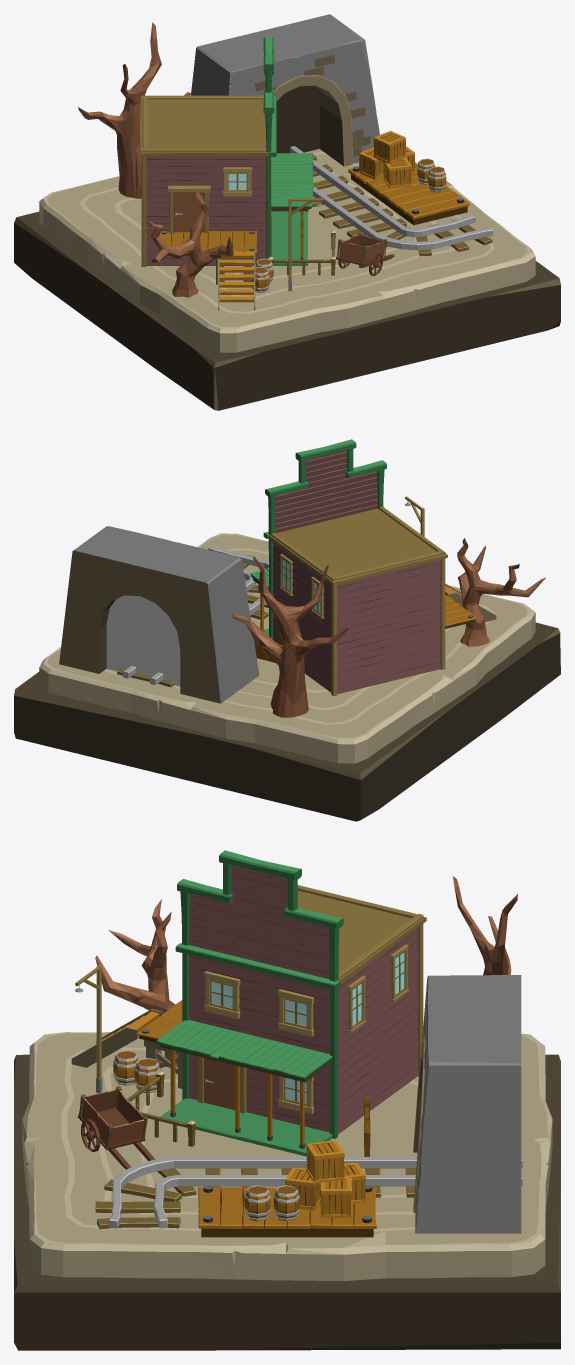
File: Stage001.fbx
The picture shows the model from 3 angles, top to bottom: view 1: azimuth 30°, elevation 25°; view 2: azimuth 150°, elevation 25°; view 3: azimuth 270°, elevation 25°; orthographic projection. The views are drawn at different scales.
Parts seen in each view (by area): view 1: BG_Ground_Wall_01_01__1_, BG_Wood_Low_Wall01_stage, Object001; view 2: BG_Wood_Low_Wall01_stage, BG_Ground_Wall_01_01__1_, Plane_1; view 3: BG_Wood_Low_Wall01_stage, BG_Ground_Wall_01_01__1_.
Part boxes in pixels (x1=…): BG_Ground_Wall_01_01__1_: x1=14, y1=149, x2=560, y2=410; BG_Wood_Low_Wall01_stage: x1=78, y1=14, x2=493, y2=310; Object001: x1=174, y1=193, x2=203, y2=232; BG_Wood_Low_Wall01_stage: x1=59, y1=439, x2=545, y2=717; BG_Ground_Wall_01_01__1_: x1=14, y1=533, x2=560, y2=821; Plane_1: x1=106, y1=595, x2=180, y2=686; BG_Wood_Low_Wall01_stage: x1=71, y1=850, x2=522, y2=1237; BG_Ground_Wall_01_01__1_: x1=14, y1=1032, x2=560, y2=1350.
Bounding box in the file's own units: 160 × 108 × 152.
